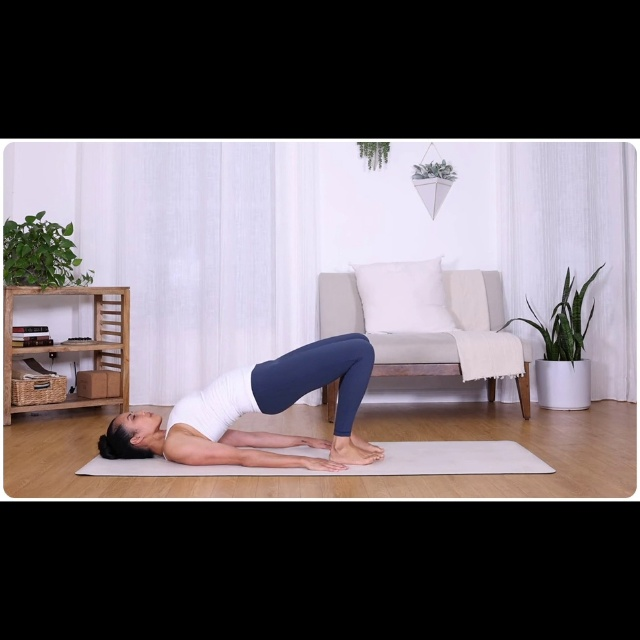Bridge_Pose: (89, 329, 388, 475)
